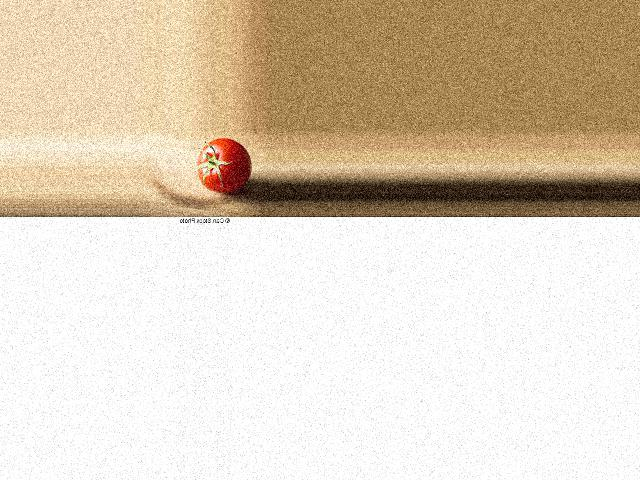tomato: (196, 139, 250, 192)
